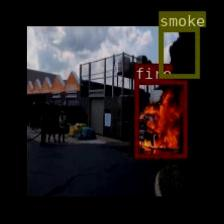fire: (134, 79, 186, 158)
smoke: (158, 26, 198, 78)
